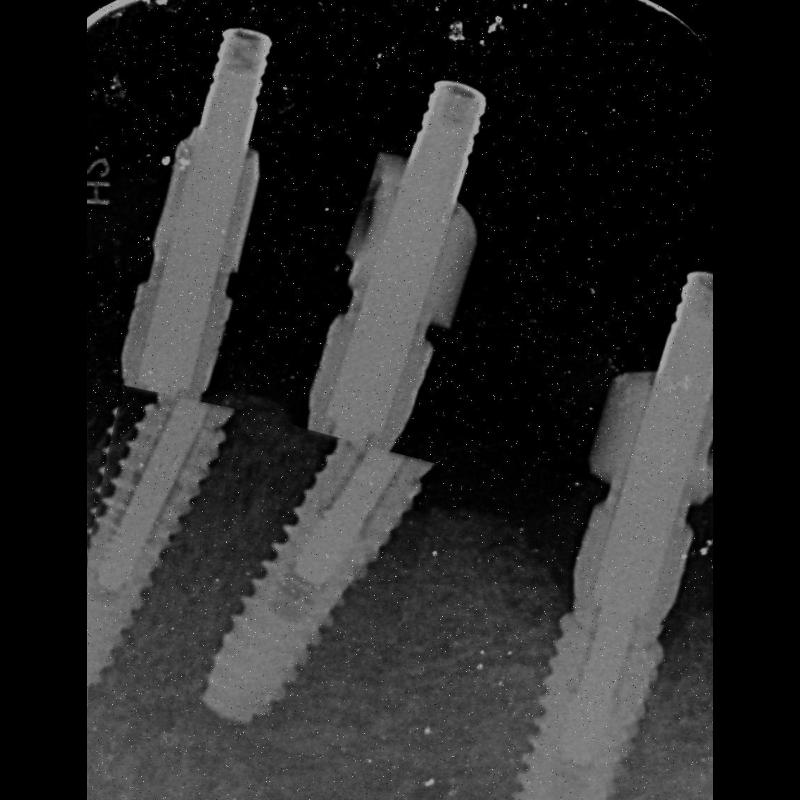osstem: (211, 429, 425, 761), (87, 390, 225, 730), (511, 620, 682, 799)
